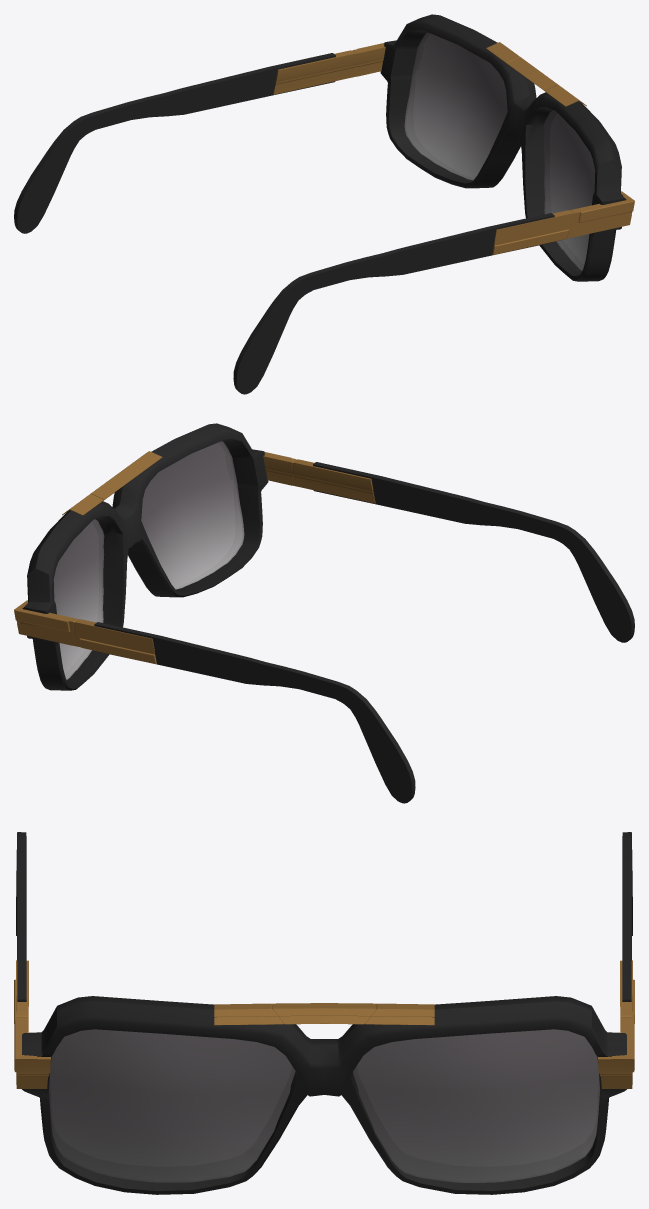
The model's file is sunglasses.glb.
3 renders of one model, top to bottom at view 1: azimuth 30°, elevation 25°; view 2: azimuth 150°, elevation 25°; view 3: azimuth 270°, elevation 25°, orthographic. The views are drawn at different scales.
Visible parts, largest first — view 1: Temples_1, Frame_0, Lens_3, Bridge_2; view 2: Temples_1, Frame_0, Lens_3, Bridge_2; view 3: Lens_3, Frame_0, Temples_1, Bridge_2.
Part boxes in pixels (x1,y1,x2,y2): Temples_1: (14,43,634,394); Frame_0: (380,14,626,281); Lens_3: (404,32,595,270); Bridge_2: (486,42,586,106); Temples_1: (14,452,634,803); Frame_0: (22,423,268,690); Lens_3: (53,441,244,679); Bridge_2: (62,451,162,515); Lens_3: (49,1029,600,1182); Frame_0: (22,996,626,1194); Temples_1: (14,832,634,1088); Bridge_2: (214,1003,434,1025).
Bounding box in the file's own units: 1.13 × 0.3725 × 1.04.
3 materials, 1 textured.
